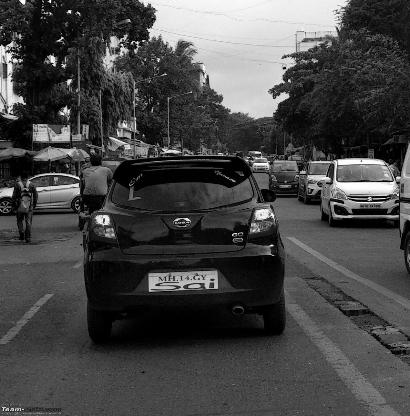license plate: (139, 263, 223, 294)
